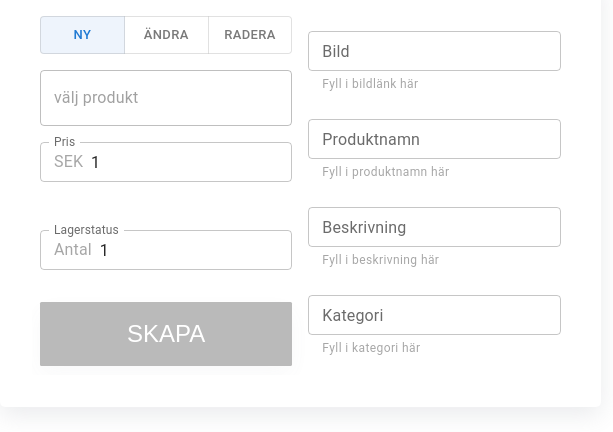
Test: AdminCms Component › should show informative message if product category input is invalid
In the field labelled "Kategori": {"x": 434, "y": 315} x1=308 y1=295 x2=561 y2=335, type "sk"
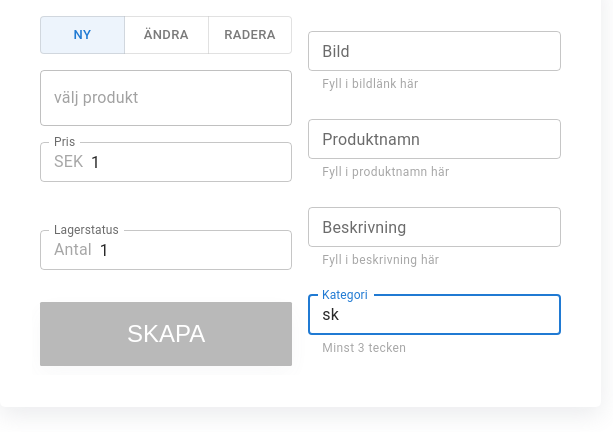
Now the text "Minst 3 tecken" is shown, box x1=322 y1=341 x2=406 y2=355
